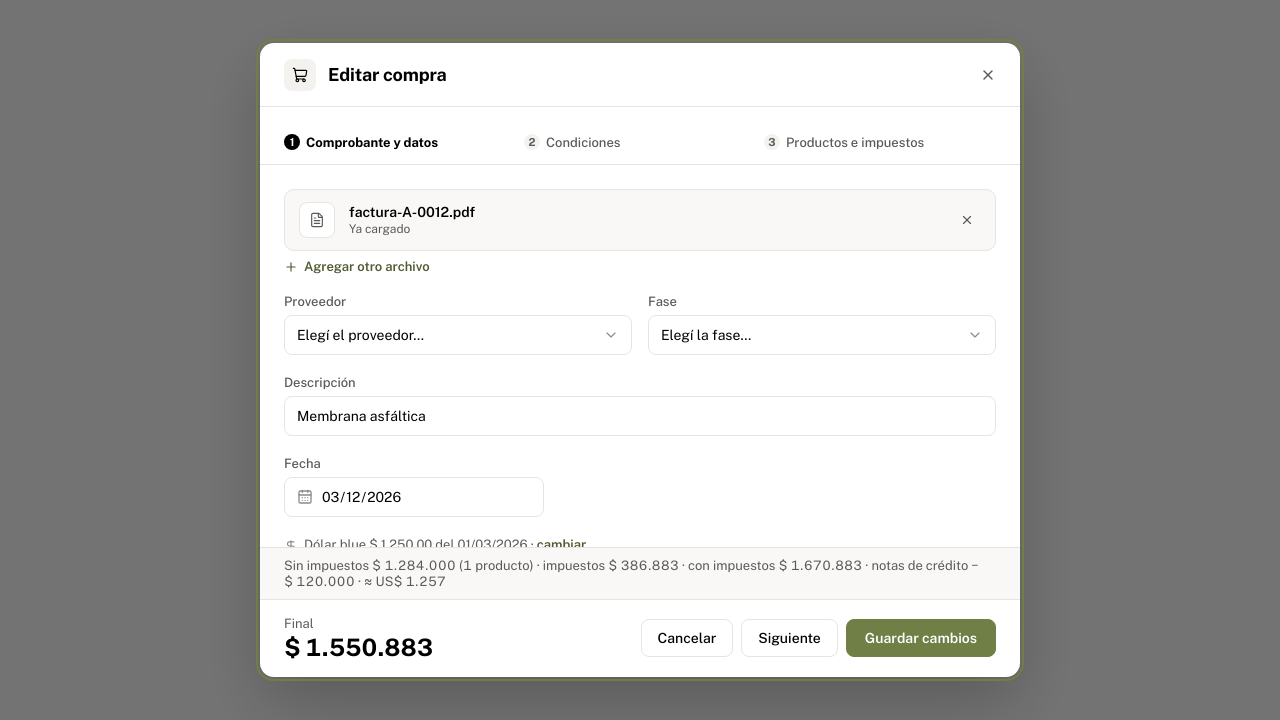
Scenario: smoke de modales › en Condiciones, factura y pago son controles de opción a la vista, sin switches
What coordinates should you click on to do the following:
click the button "2 Condiciones"
I would click on:
 (640, 144)
Its box is [524,123,756,164].
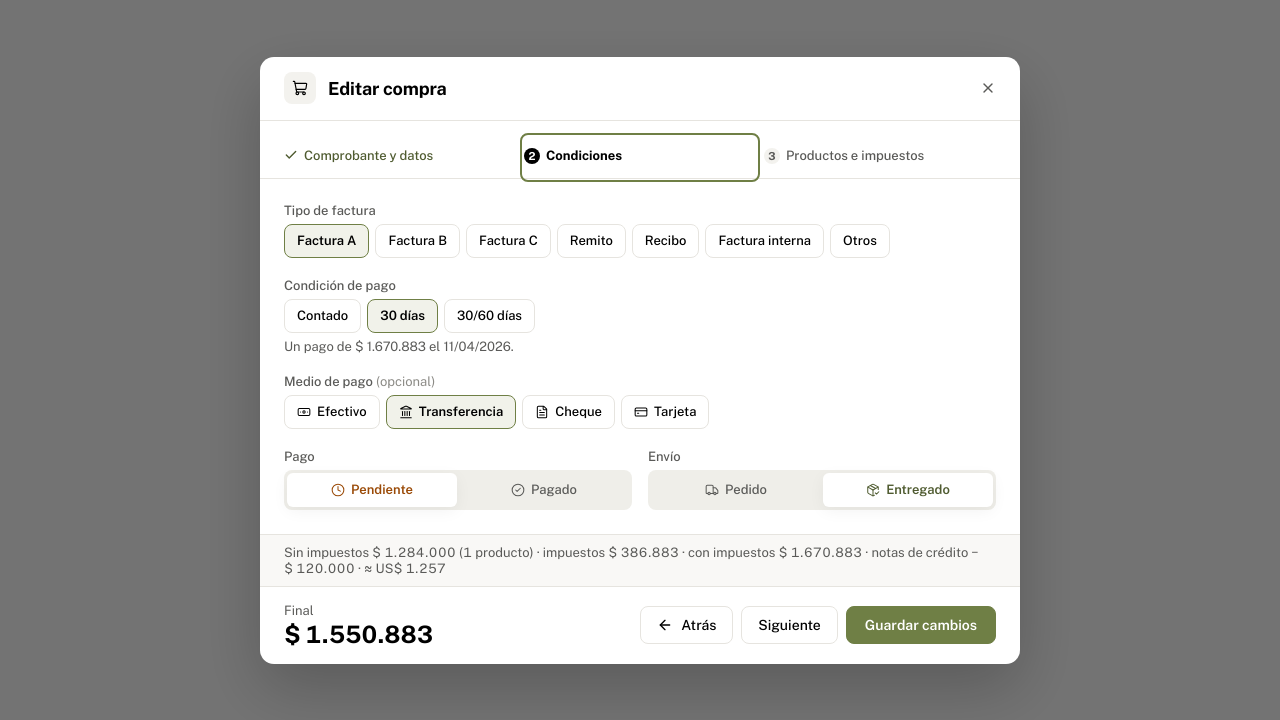
Result: no dropdowns are shown
